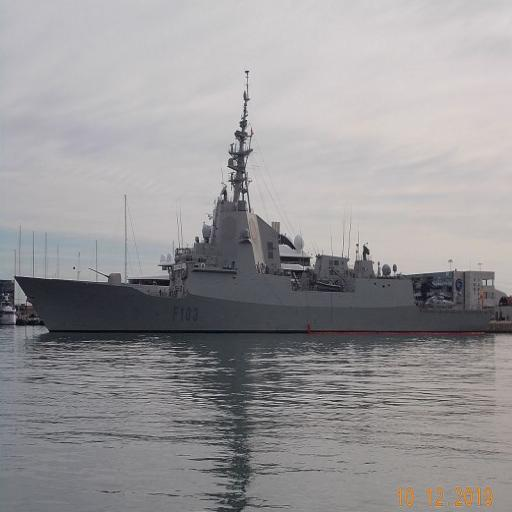Fragata: (9, 44, 499, 339)
